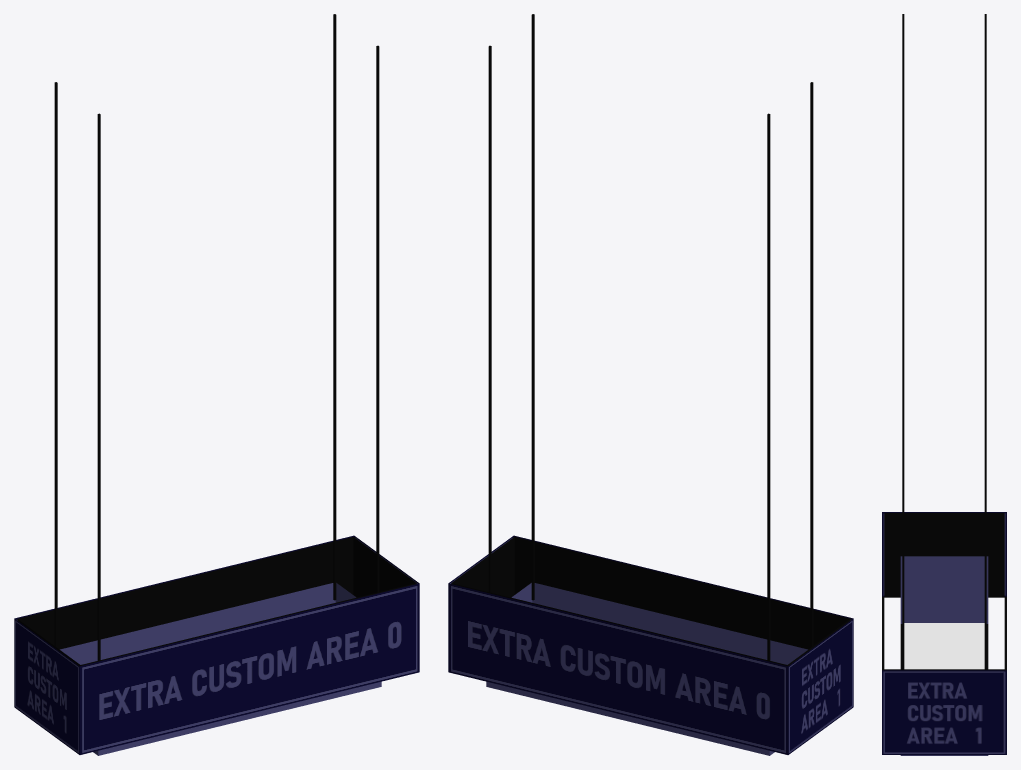
File: stand_main_top_04.fbx
The picture shows the model from 3 angles, left to right: view 1: azimuth 30°, elevation 25°; view 2: azimuth 150°, elevation 25°; view 3: azimuth 270°, elevation 25°; orthographic projection. The views are drawn at different scales.
Parts seen in each view (by area): view 1: stand_main_top_04; view 2: stand_main_top_04; view 3: stand_main_top_04.
Boxes of the visible parts, x1,y1,x2,y2 form: stand_main_top_04: (14, 14, 419, 755); stand_main_top_04: (448, 14, 853, 755); stand_main_top_04: (882, 14, 1006, 755).
Size of the model in its own units: 600 by 1080 by 200.
